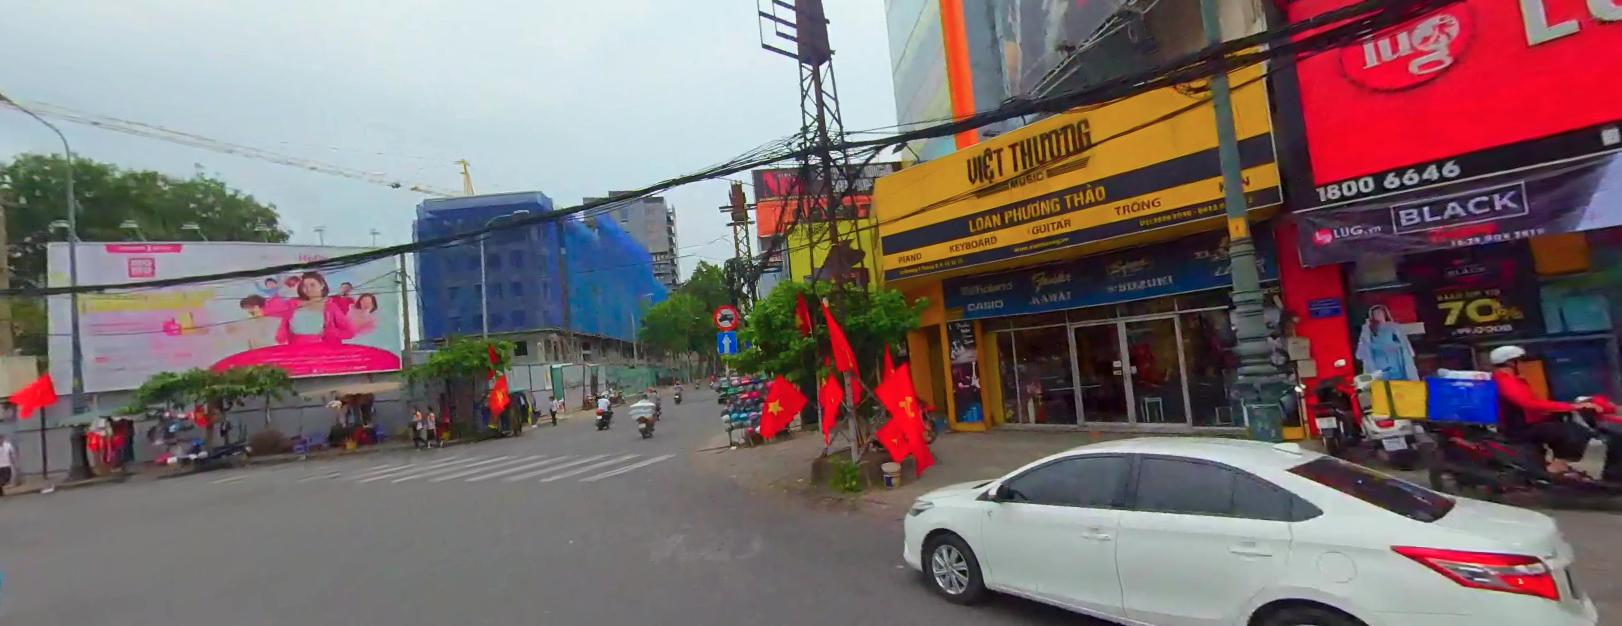Cam con lai: (713, 303, 738, 328)
